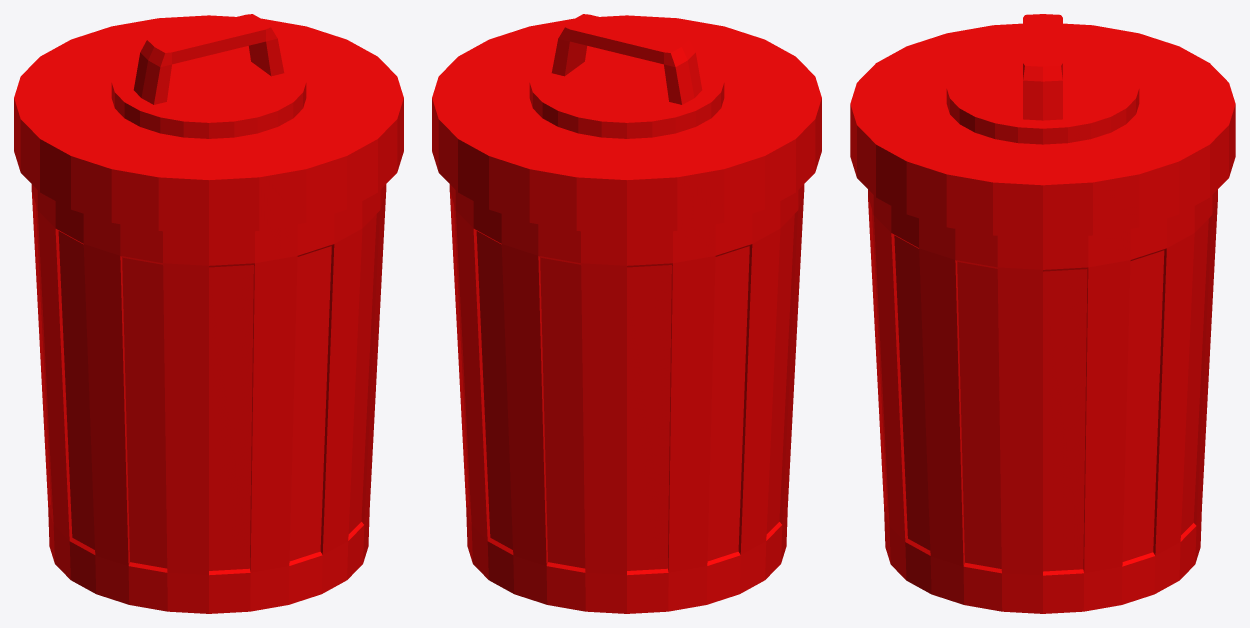
3 views of the same model, side by side, from view 1: azimuth 30°, elevation 25°; view 2: azimuth 150°, elevation 25°; view 3: azimuth 270°, elevation 25° (orthographic).
Parts seen in each view (by area): view 1: Bin, BinLid; view 2: Bin, BinLid; view 3: Bin, BinLid.
Boxes of the visible parts, x1,y1,x2,y2 form: Bin: (31,184,386,613); BinLid: (14,14,403,233); Bin: (449,184,804,613); BinLid: (432,14,821,233); Bin: (868,189,1217,613); BinLid: (850,14,1235,238).
Size of the model in its own units: 2.2 by 3.19 by 2.2.
